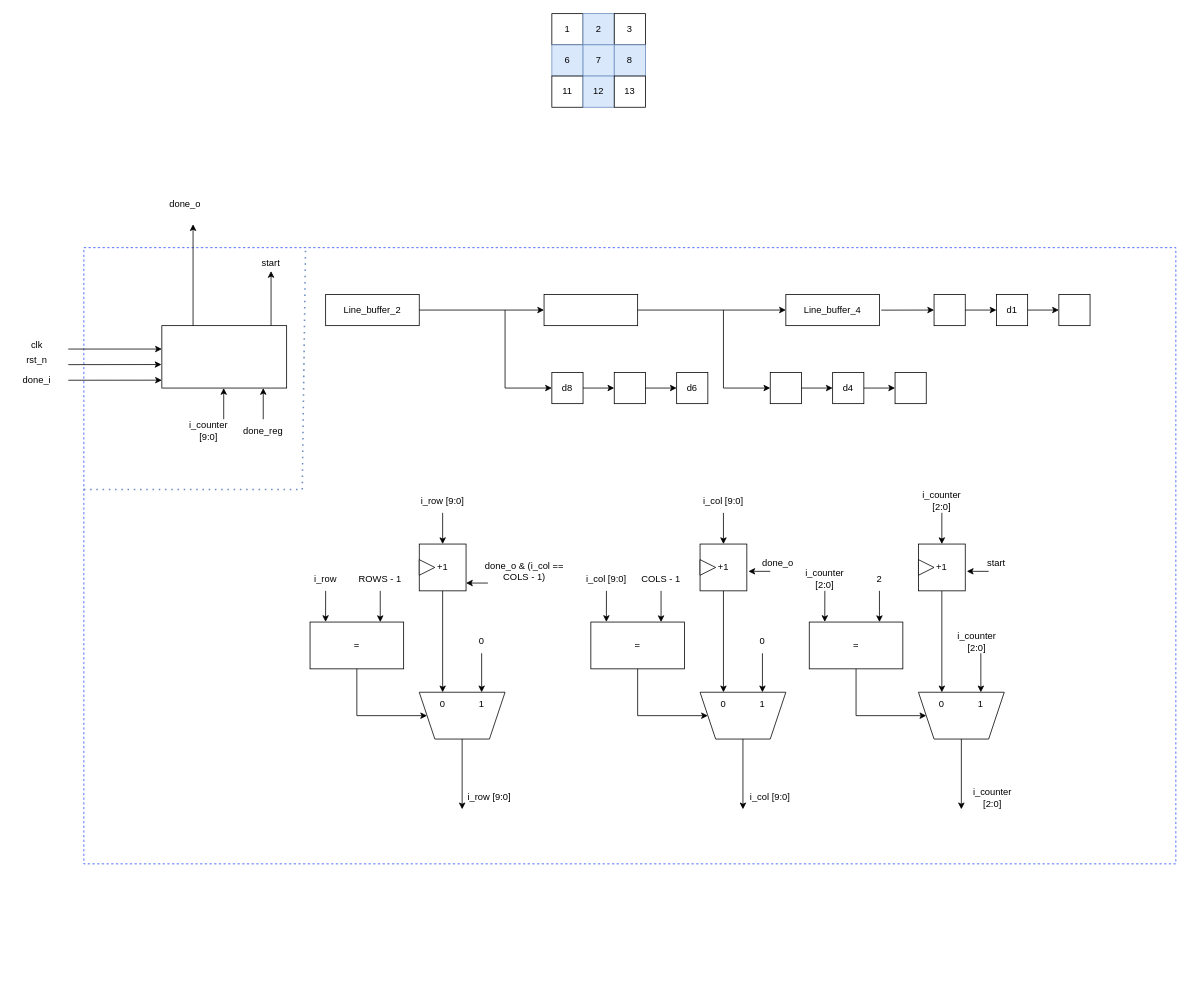
Some shapes in this 1190 by 1001 pixel diagram are drawn without their labels. Each missing label, with the centre of its shape:
"Controller" goes at point (224, 356).
"d0" goes at point (1074, 310).
"d2" goes at point (949, 310).
"d3" goes at point (910, 388).
"d5" goes at point (785, 388).
"d7" goes at point (629, 388).
"Line_buffer_3" goes at point (590, 310).
